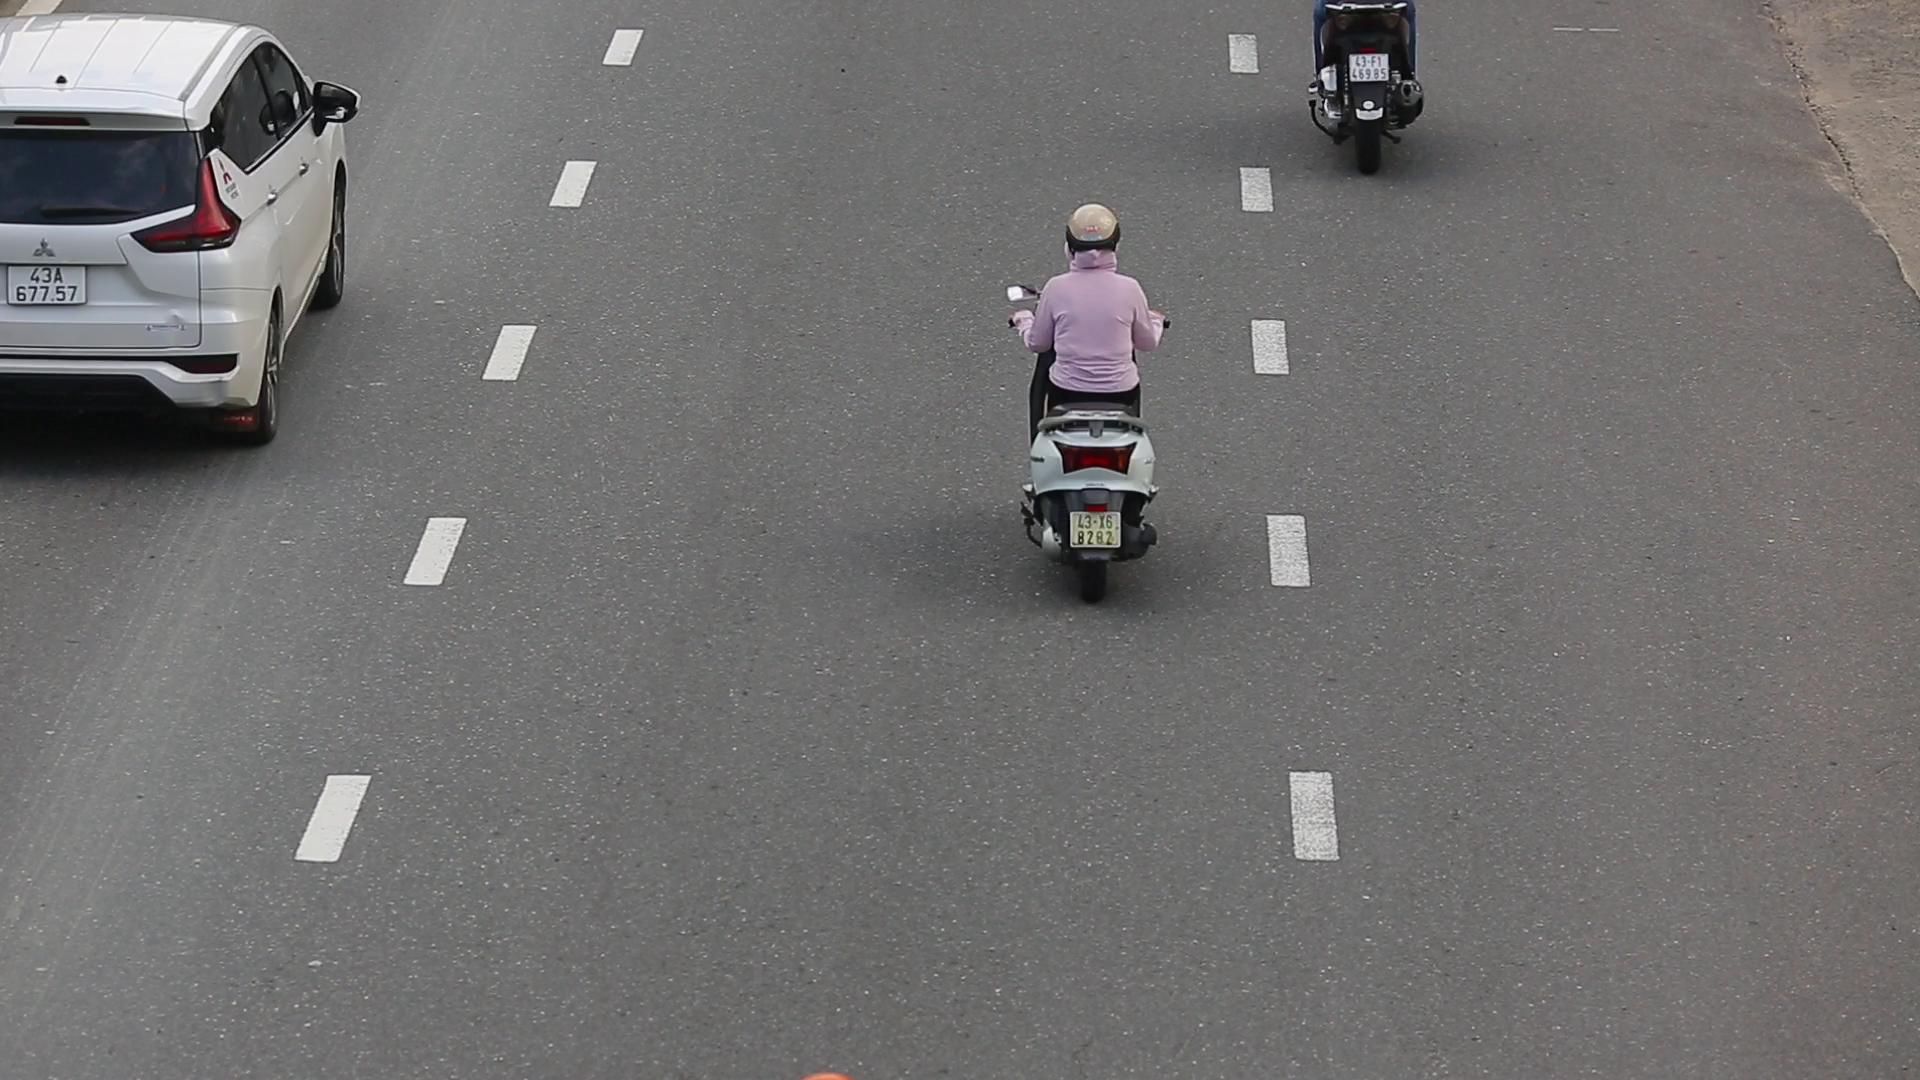motobike: (1002, 202, 1172, 605)
